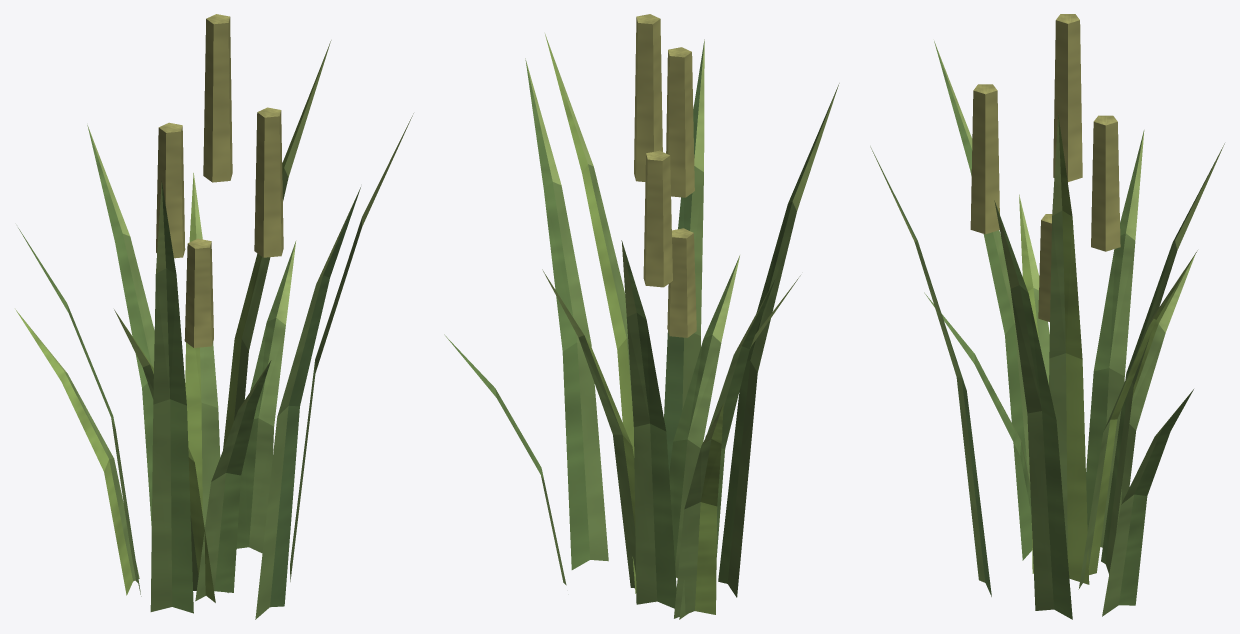
File: reed_clump_02.fbx
3 renders of one model, left to right at view 1: azimuth 30°, elevation 25°; view 2: azimuth 150°, elevation 25°; view 3: azimuth 270°, elevation 25°, orthographic.
Parts seen in each view (by area): view 1: reed_clump_02; view 2: reed_clump_02; view 3: reed_clump_02.
Part boxes in pixels (x1,y1,x2,y2): reed_clump_02: (15,14,413,619); reed_clump_02: (444,14,839,619); reed_clump_02: (870,14,1224,619).
Bounding box in the file's own units: 78.61 × 131 × 75.
Materials: 1 (1 with a texture image).
